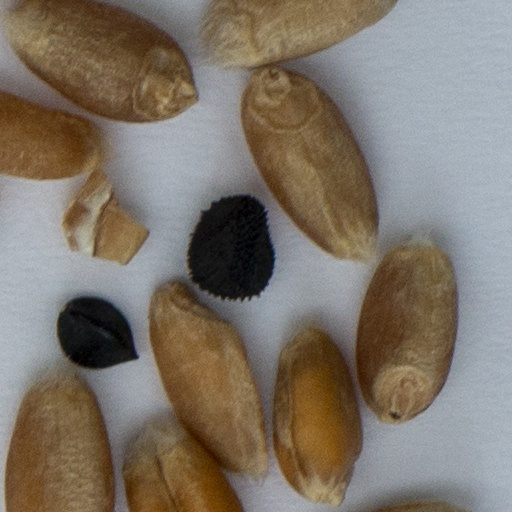Agrostemma-poly: (187, 198, 271, 299)
Fallopia-Сonvolvulus-poly: (60, 300, 135, 367)
Wheat-grain-damaged-poly: (63, 170, 147, 263)
